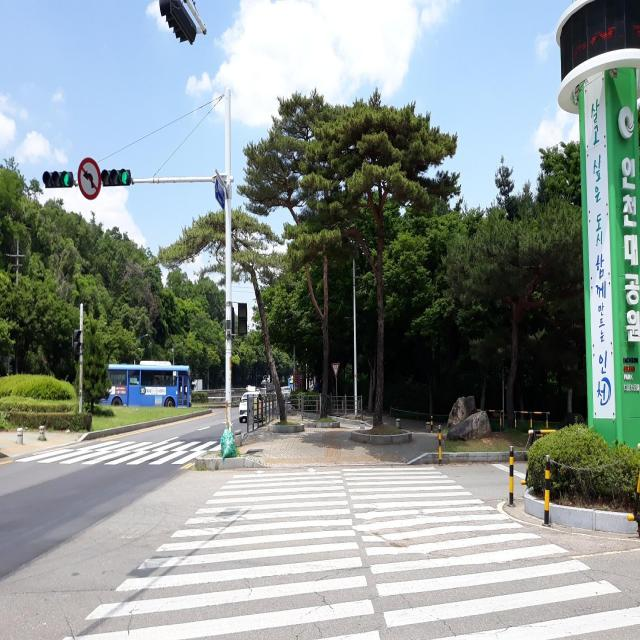횡단보도: (59, 462, 640, 640), (13, 438, 230, 468)
